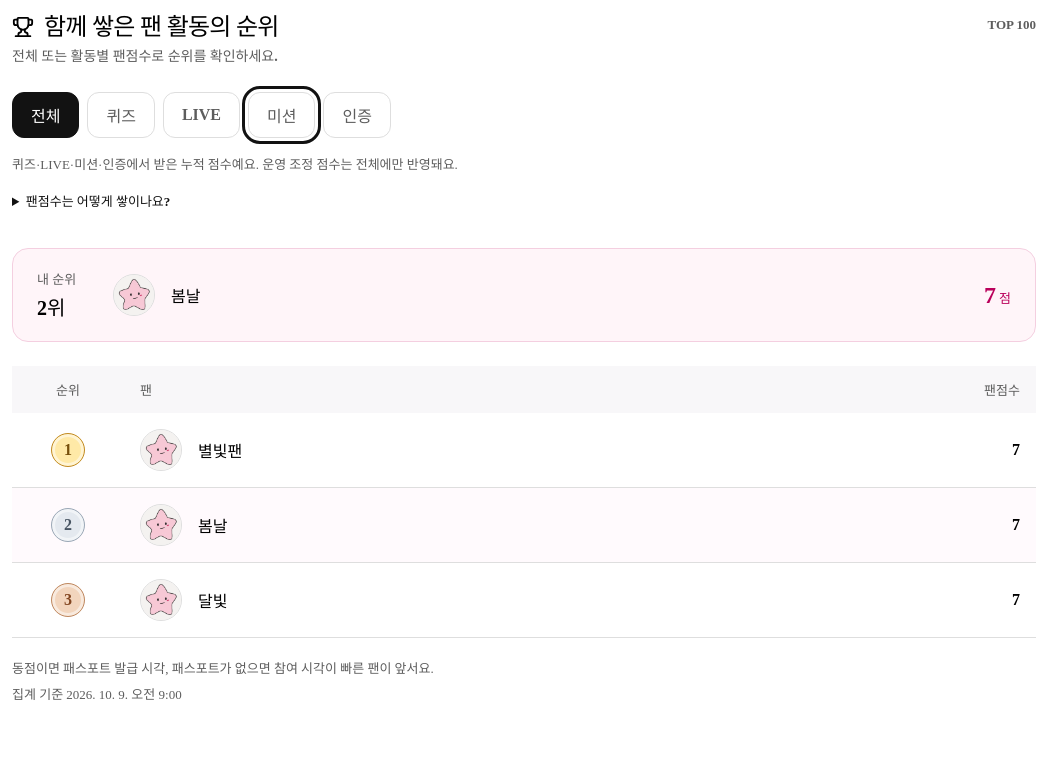
Scenario: uses server-ranked category results and keeps the filter focused through loading
The width and height of the screenshot is (1048, 780).
Expected: the table is shown, [12,366,1036,638]
Click the button "미션". click: (282, 115)
box: [248,92,316,138]
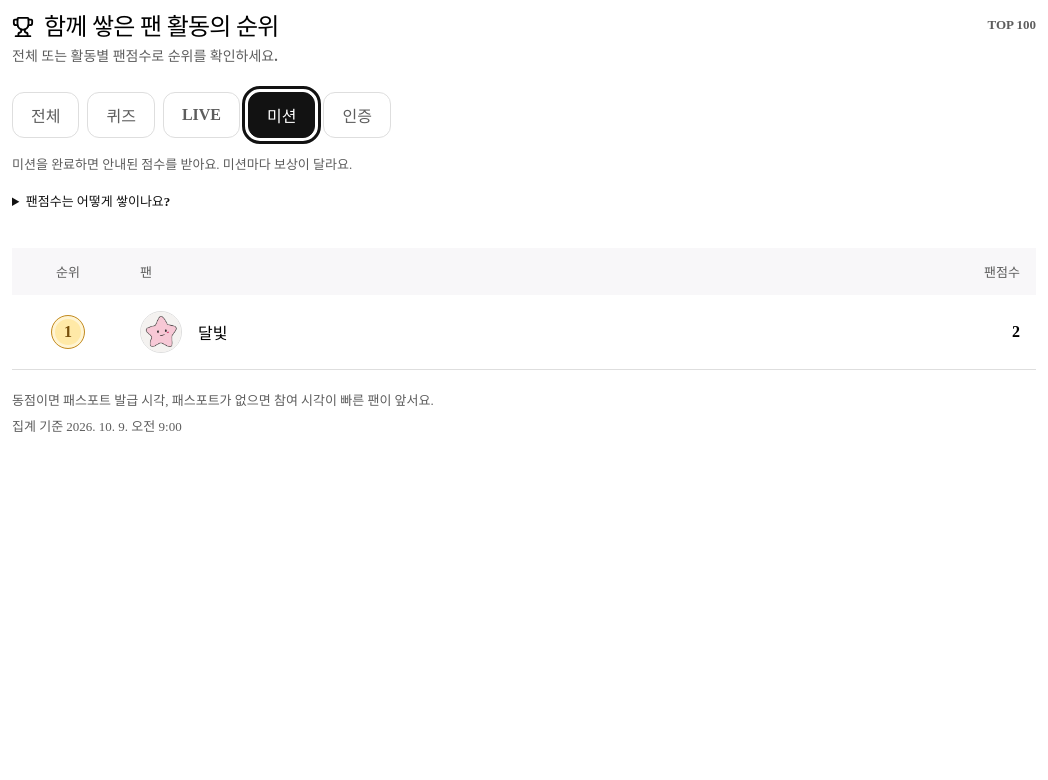
Expected: the text "달빛" is shown, [198,320,228,344]
Result: the text "별빛팬" is gone
